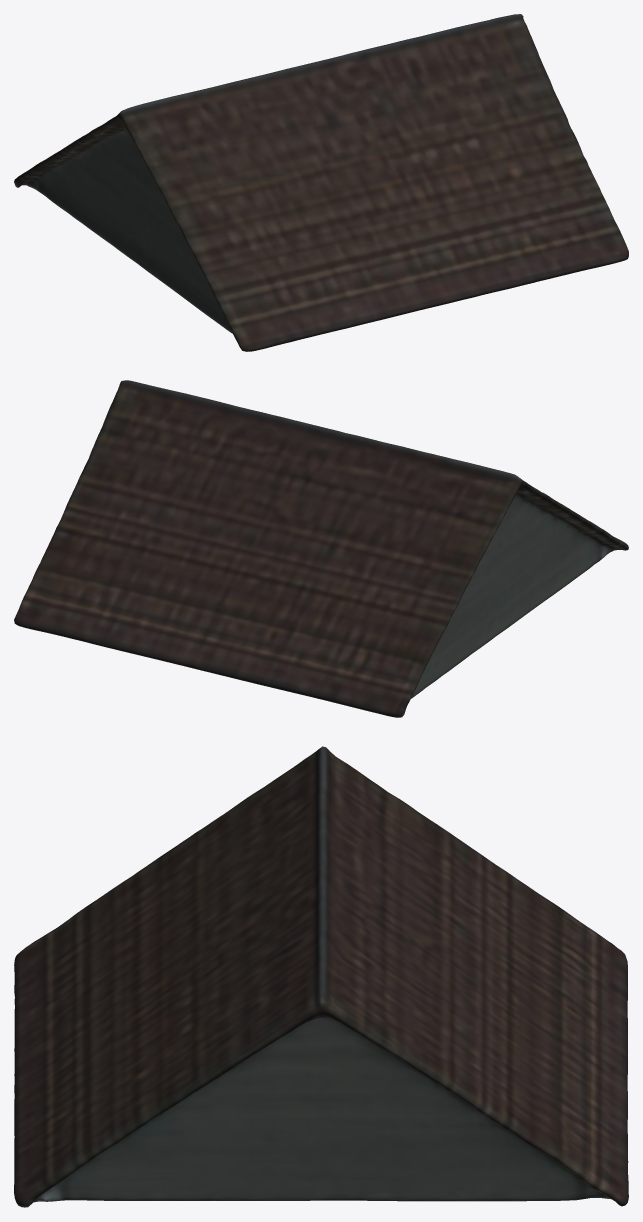
File: church roof.glb
The picture shows the model from 3 angles, top to bottom: view 1: azimuth 30°, elevation 25°; view 2: azimuth 150°, elevation 25°; view 3: azimuth 270°, elevation 25°; orthographic projection. The views are drawn at different scales.
Parts seen in each view (by area): view 1: world; view 2: world; view 3: world.
Boxes of the visible parts, x1,y1,x2,y2 form: world: (14,14,628,351); world: (14,380,628,717); world: (14,746,628,1207).
Bounding box in the file's own units: 0.4291 × 0.1671 × 0.4305.
Materials: 1 (1 with a texture image).
